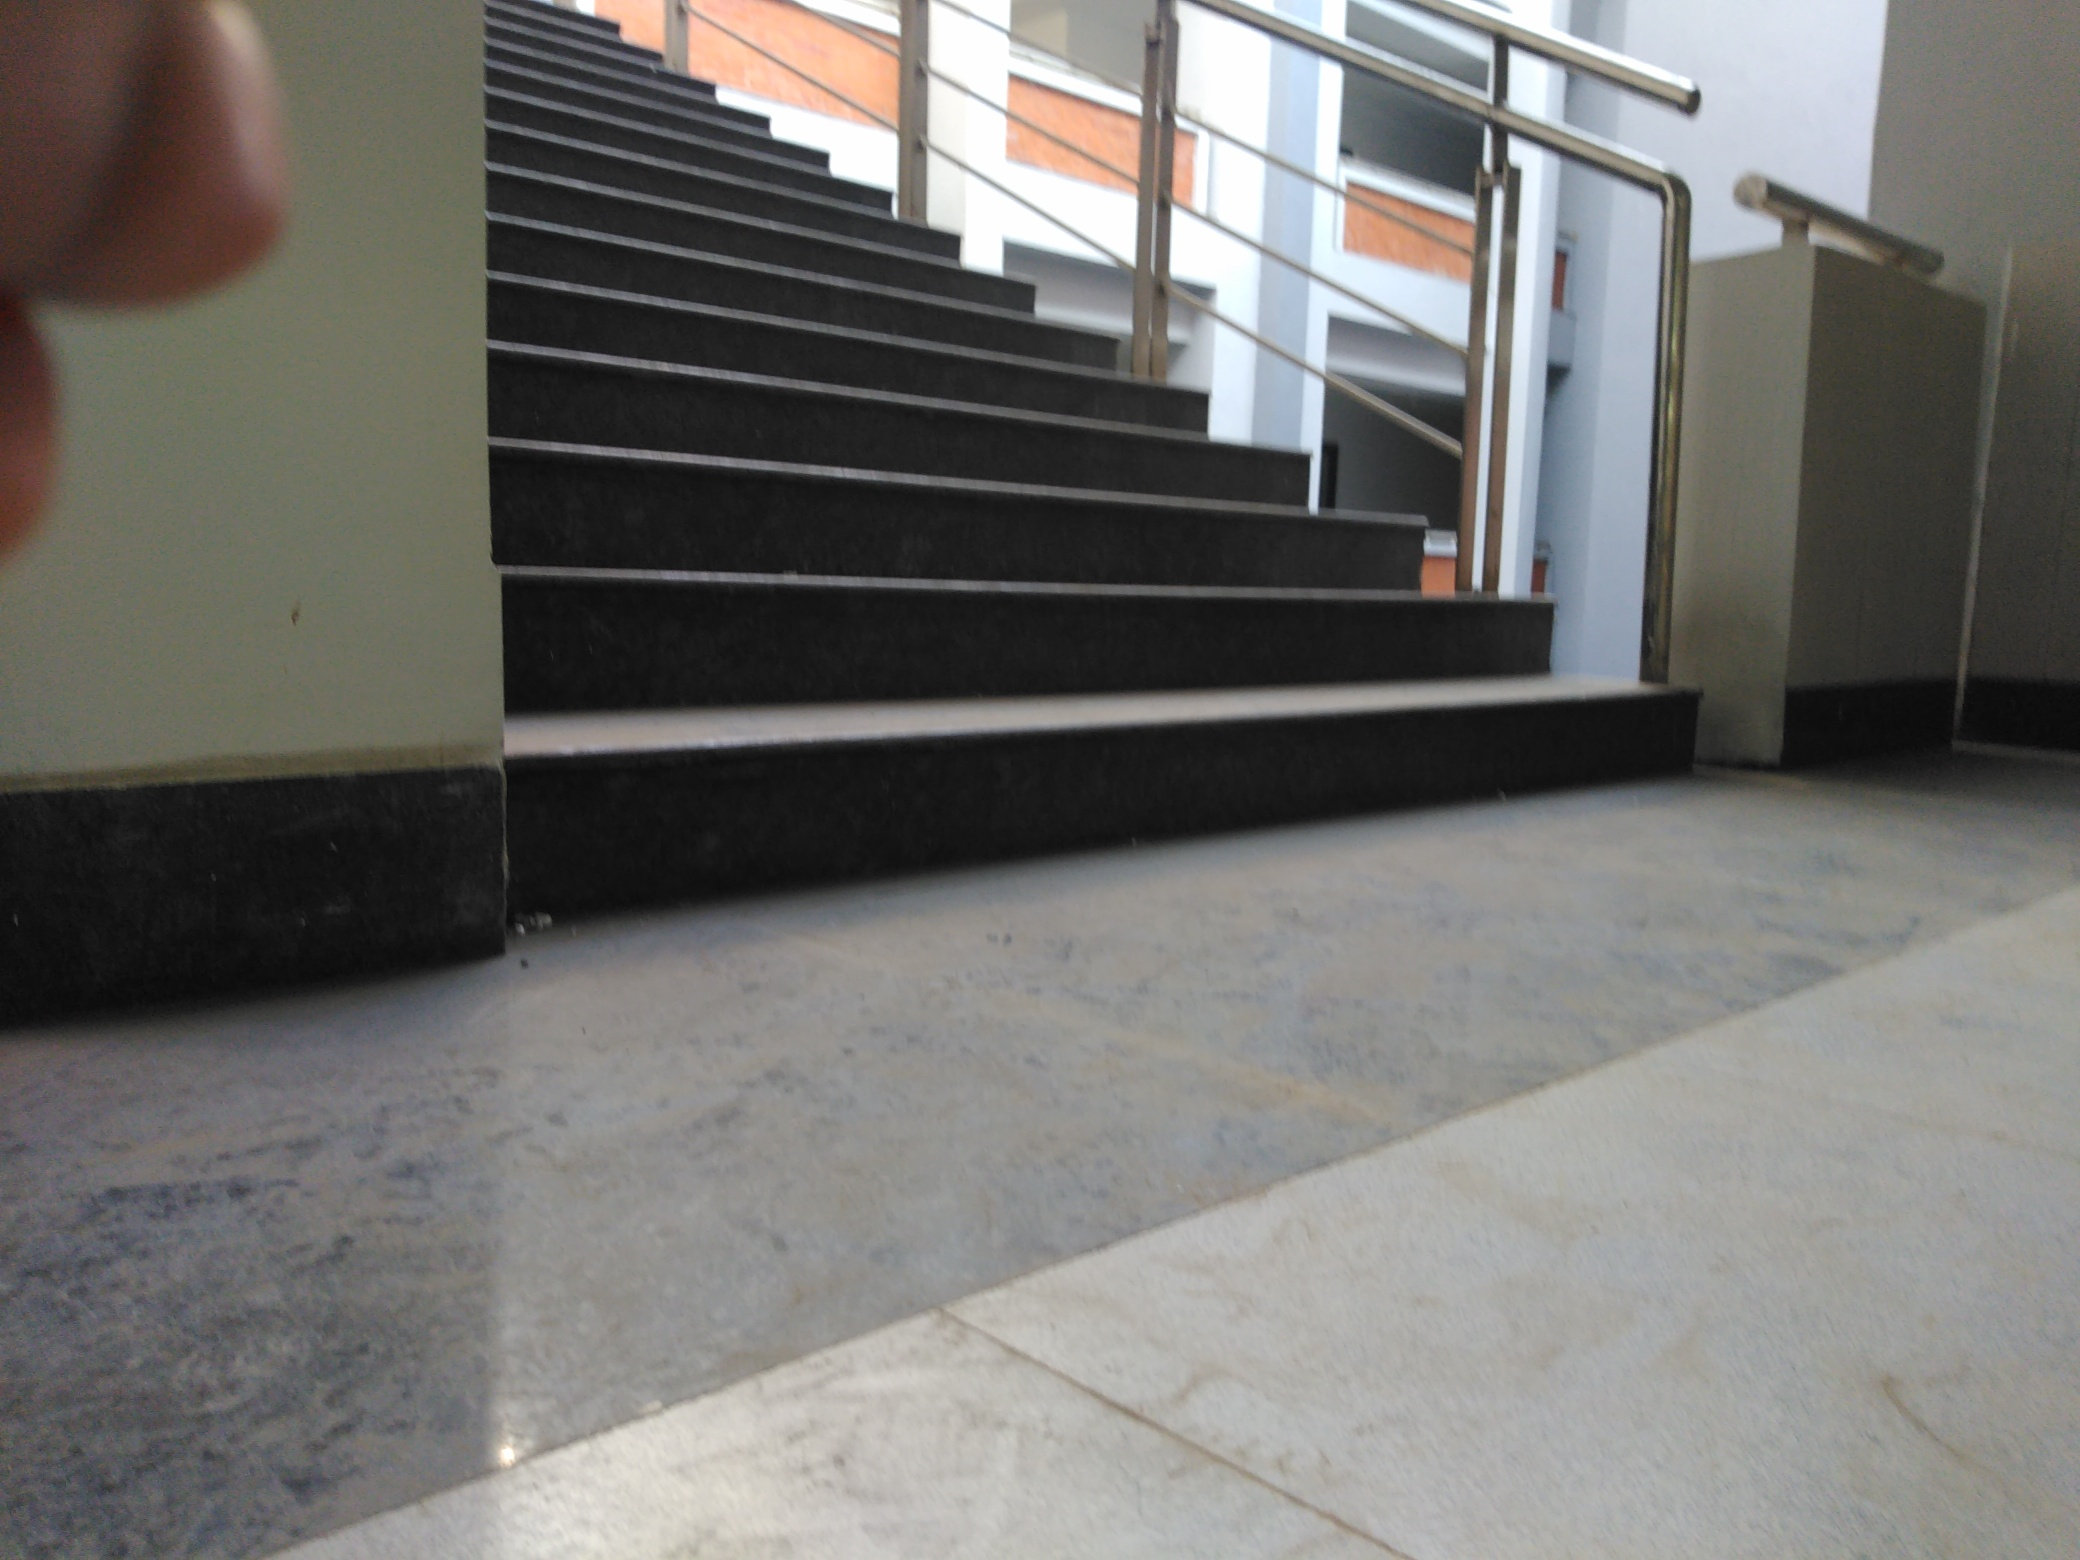stairs_up: (490, 16, 1636, 900)
